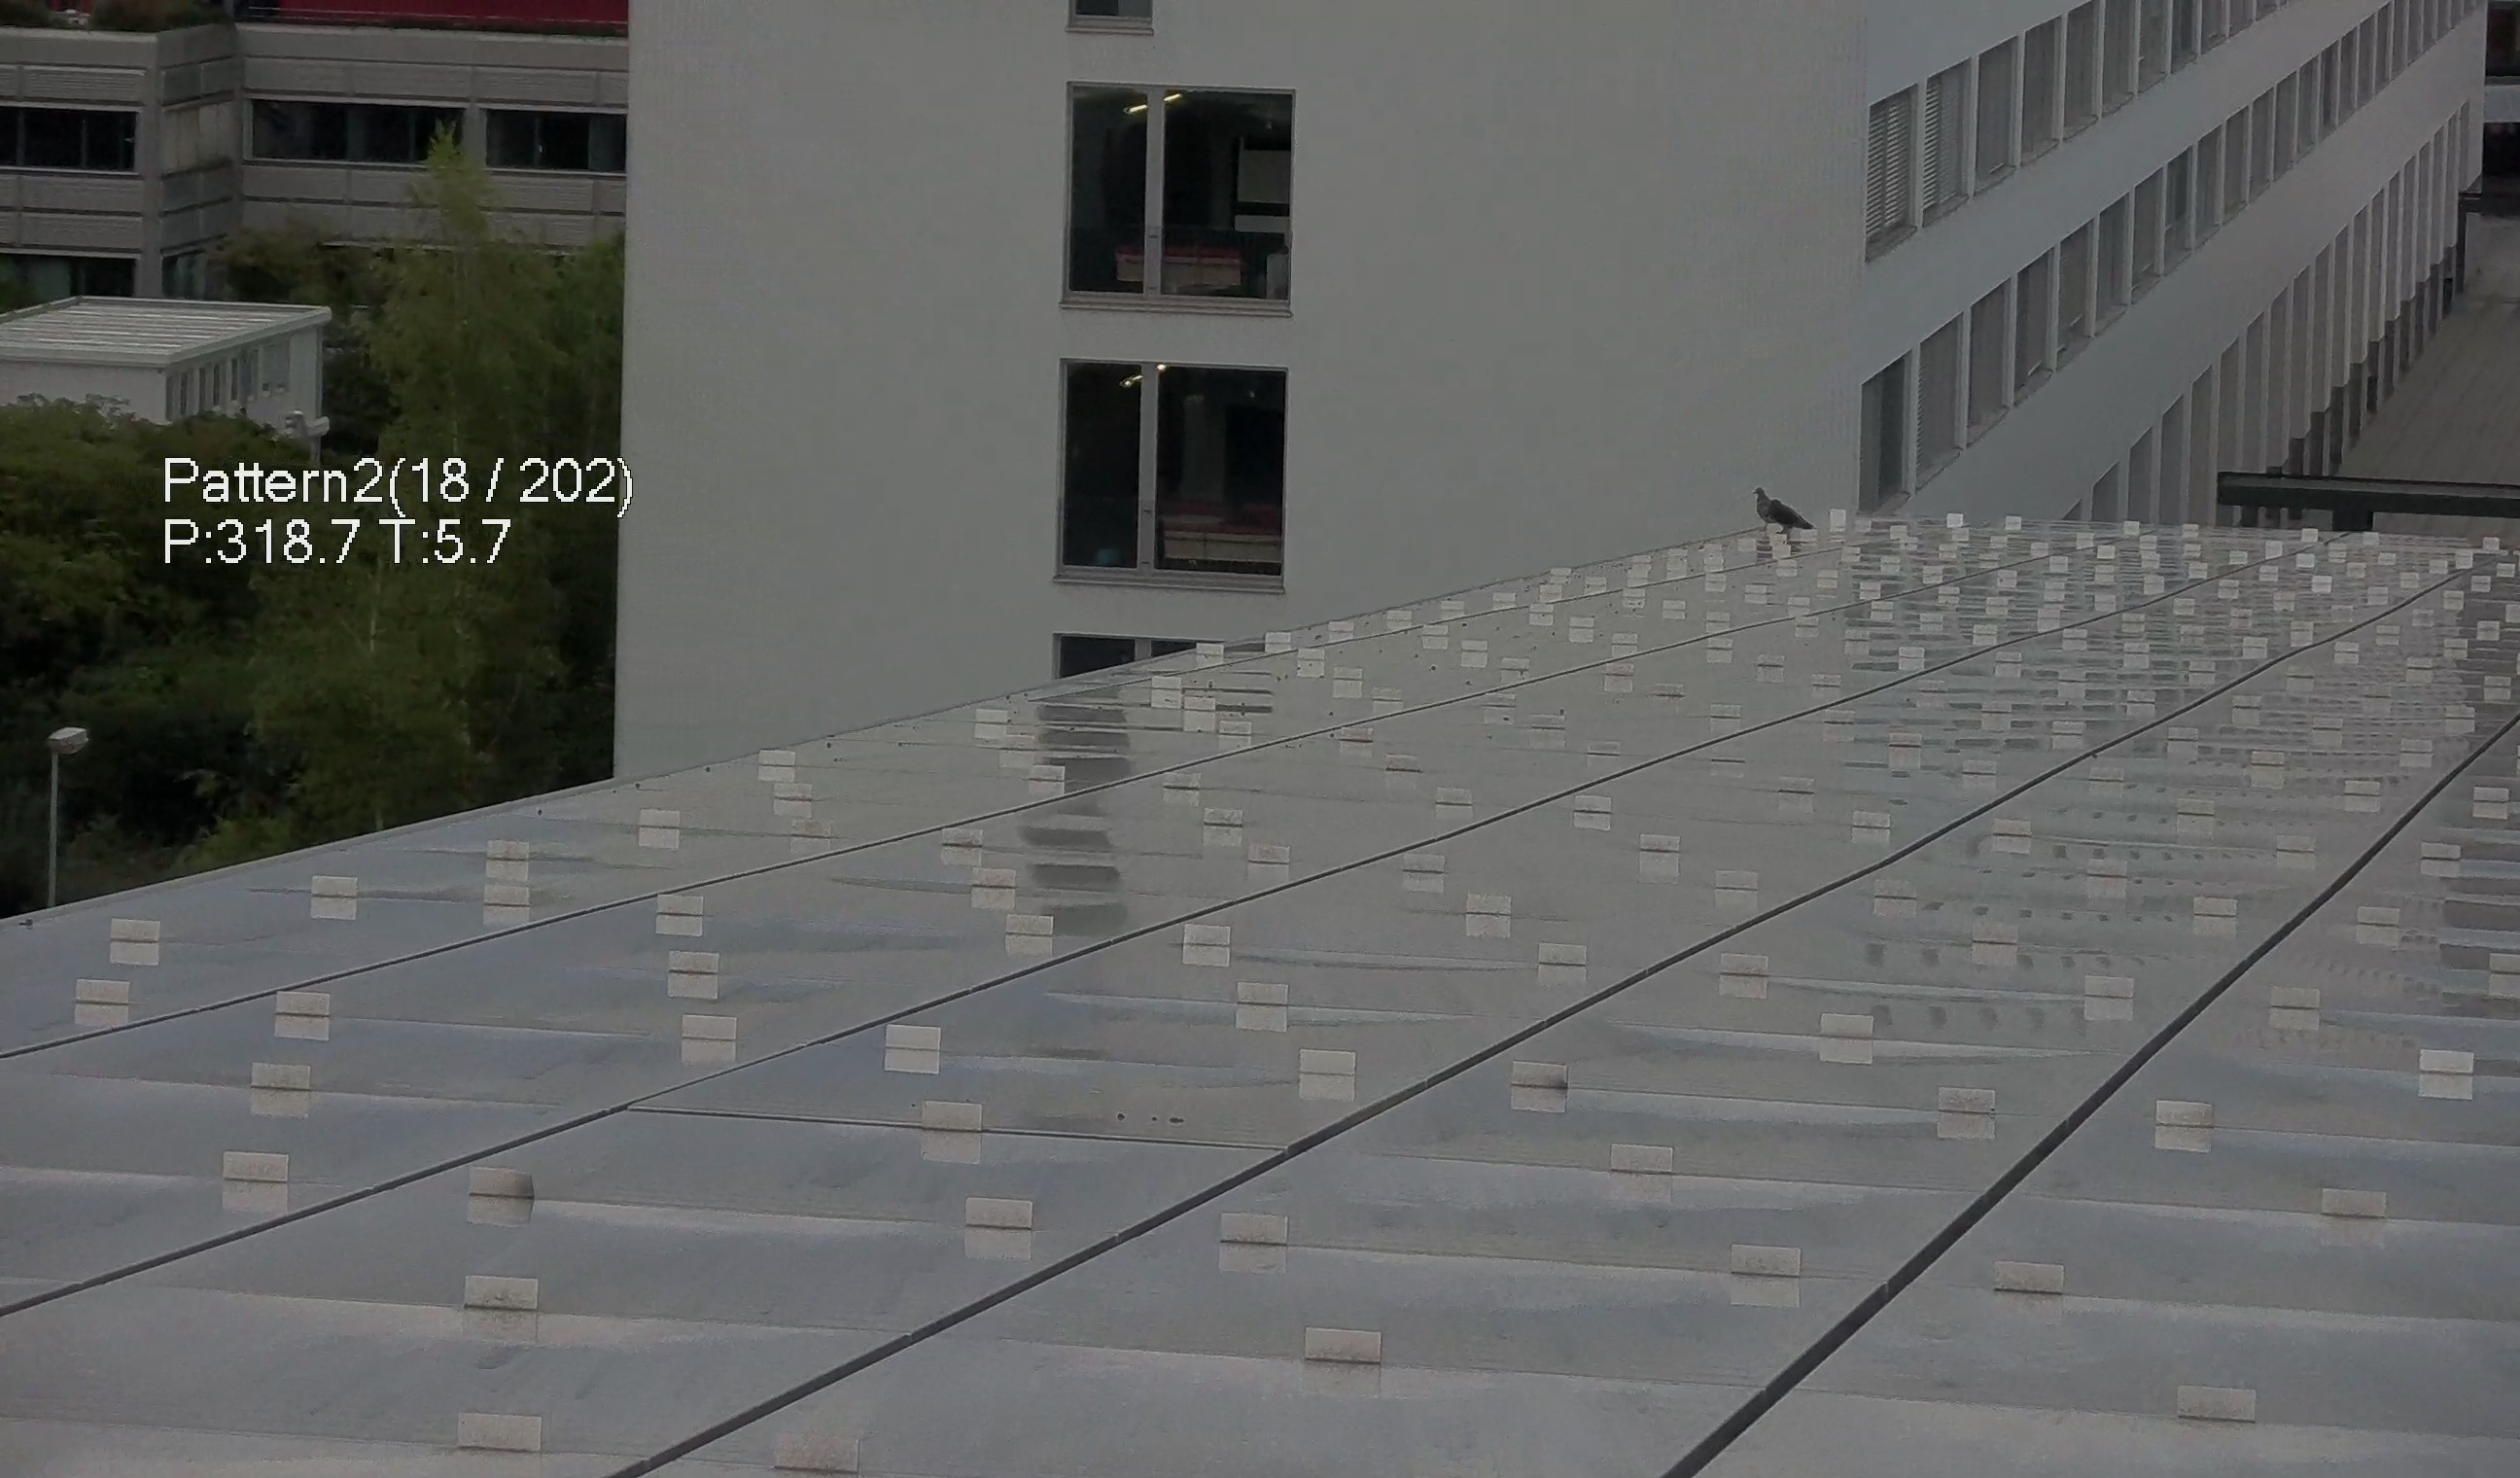Pigeon: (1744, 475, 1822, 544)
